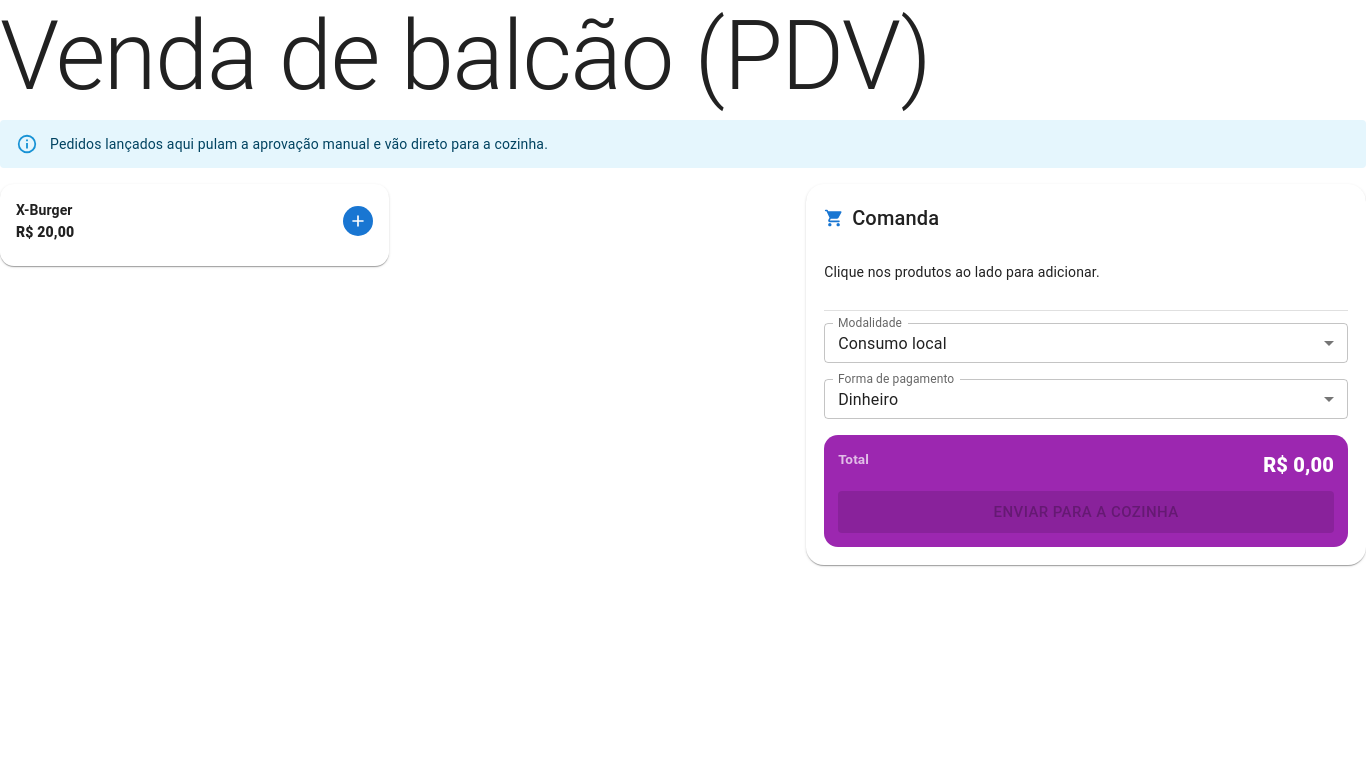
Test case: PdvPage › fechar o diálogo de recibo sem imprimir
This screenshot has width=1366, height=768.
Click the heading "X-Burger". click: (45, 211)
box: [16, 200, 74, 222]
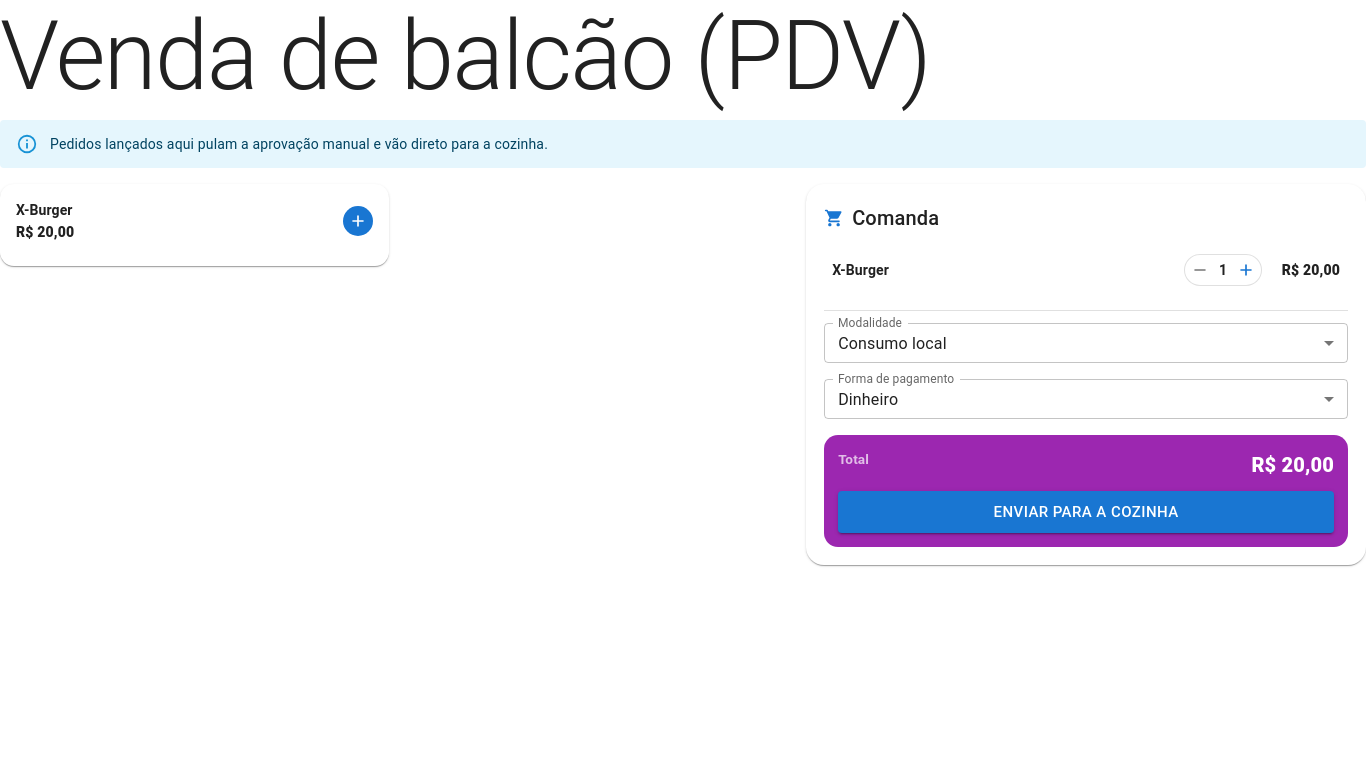
Click the dropdown named "Forma de pagamento". click: (868, 399)
box: [838, 390, 898, 408]
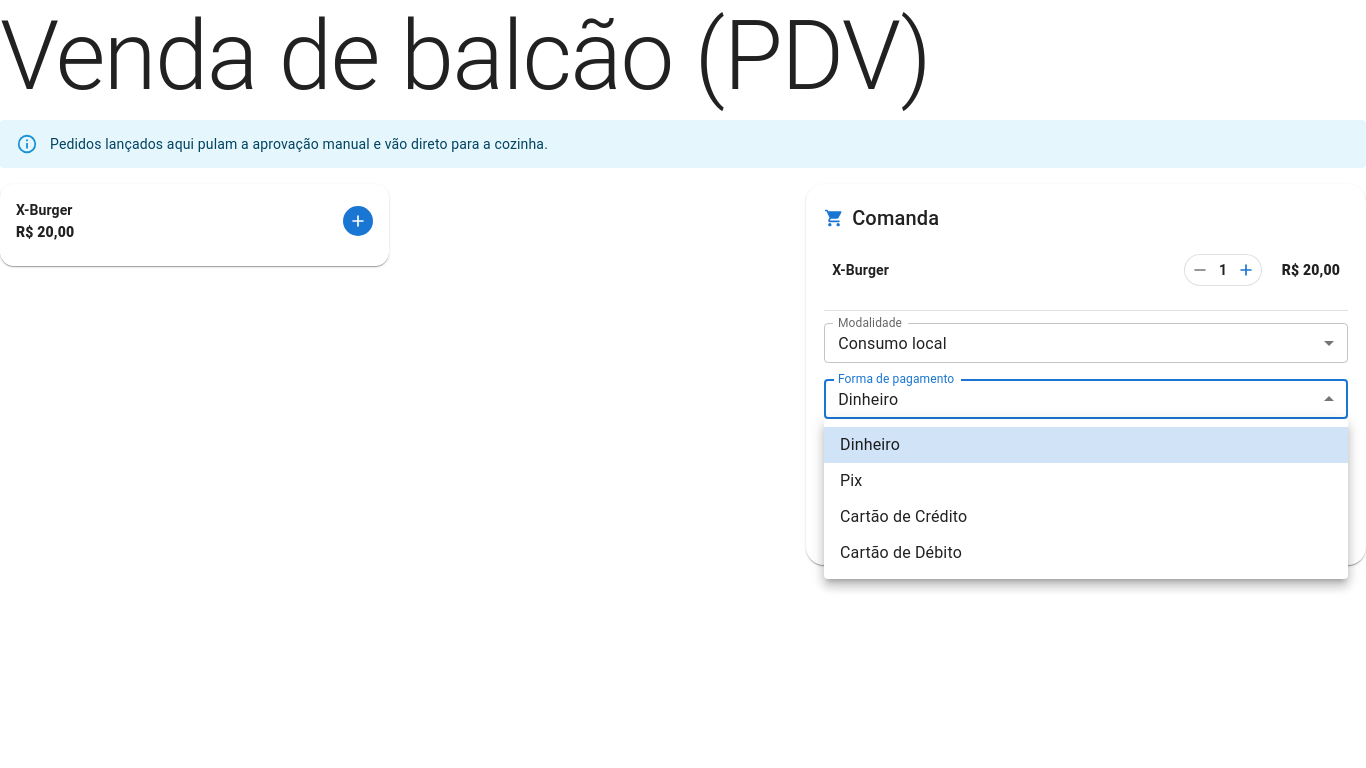
Click the option "Pix". click: (851, 480)
box: [840, 471, 862, 490]
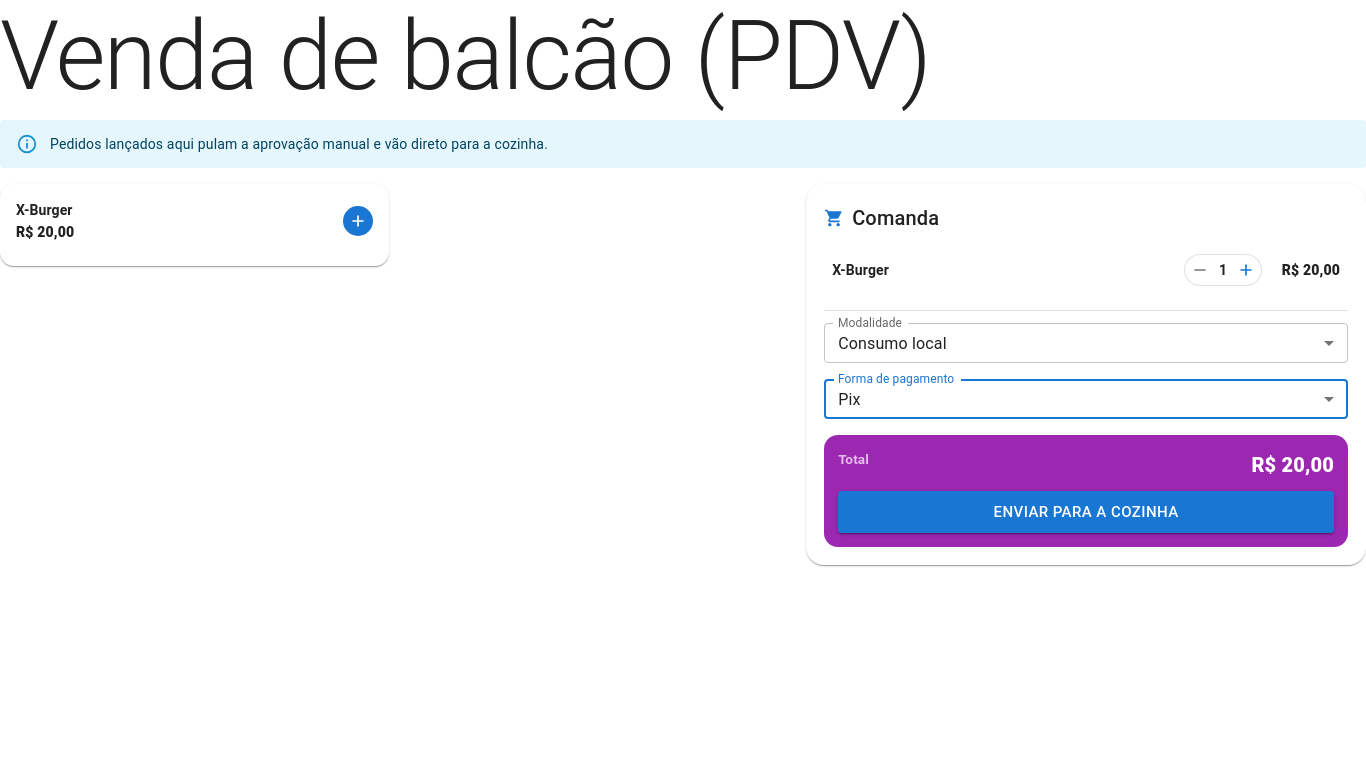
Click the button "Enviar para a cozinha". click: (1086, 512)
box: [838, 491, 1334, 533]
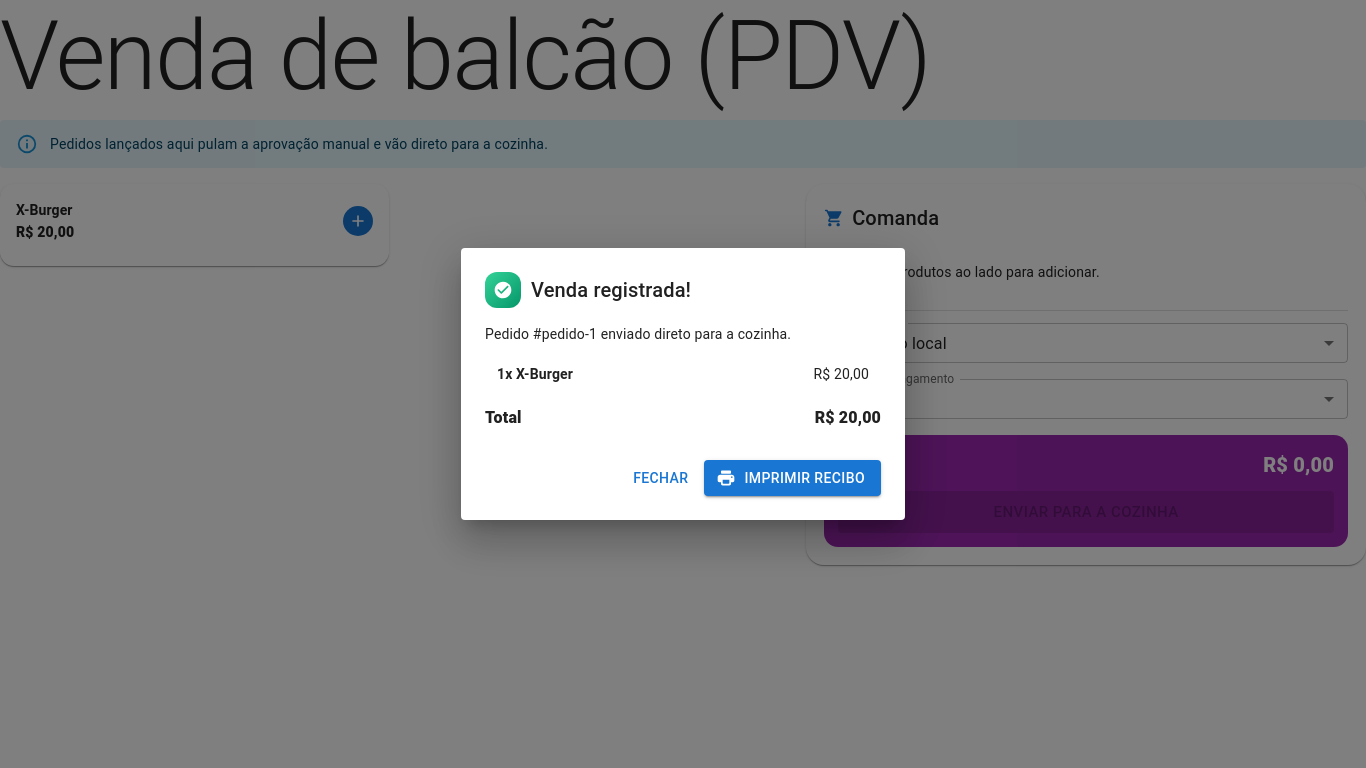
Expected: the heading "Venda registrada!" is shown, [485, 272, 691, 308]
Click the button "Fechar". click: (661, 478)
box: [625, 460, 696, 496]
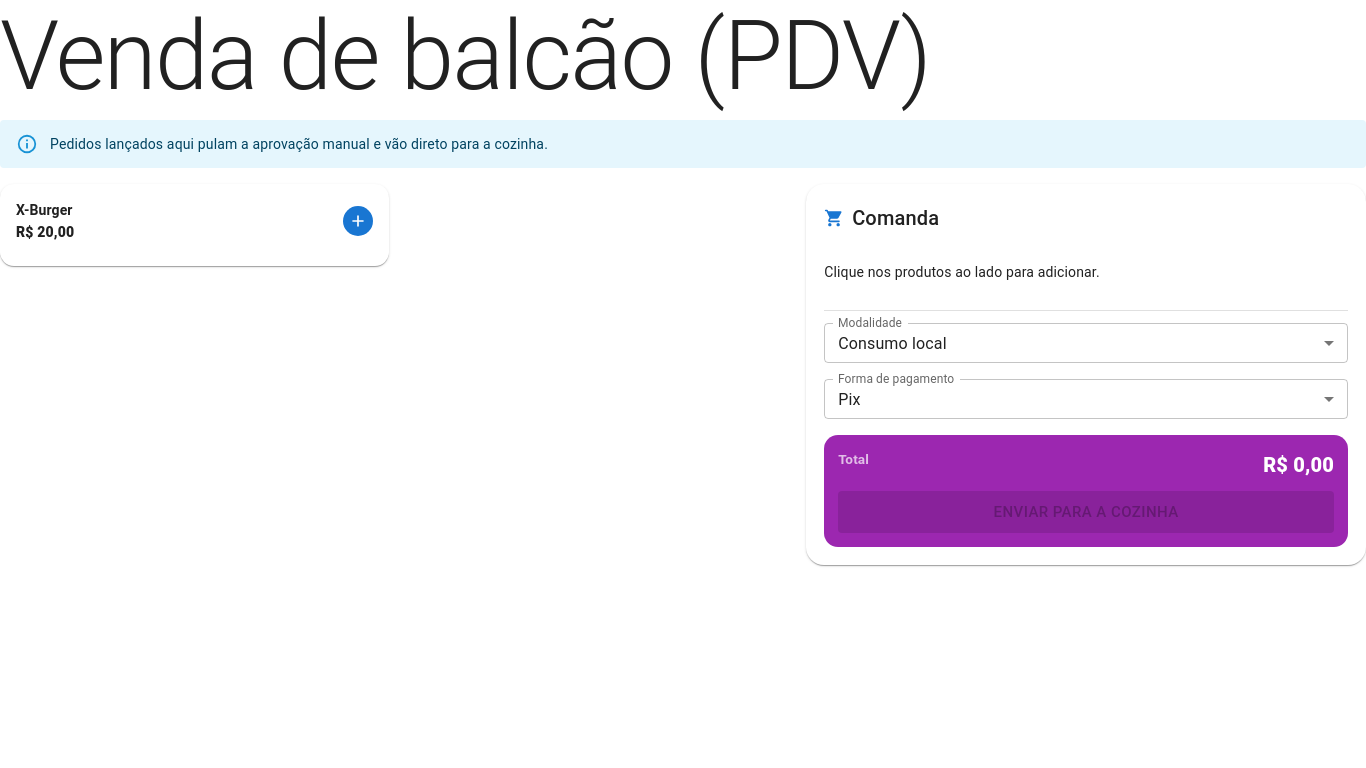
Expected: the heading "Venda registrada!" is gone
